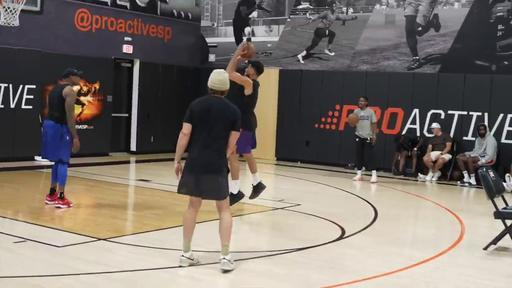ball: (240, 44, 257, 58), (348, 114, 358, 124)
human: (173, 68, 241, 272), (227, 42, 267, 204), (40, 67, 84, 209), (348, 97, 378, 184), (456, 124, 498, 186), (424, 123, 454, 181), (392, 132, 420, 178)
rim: (3, 1, 26, 26)
